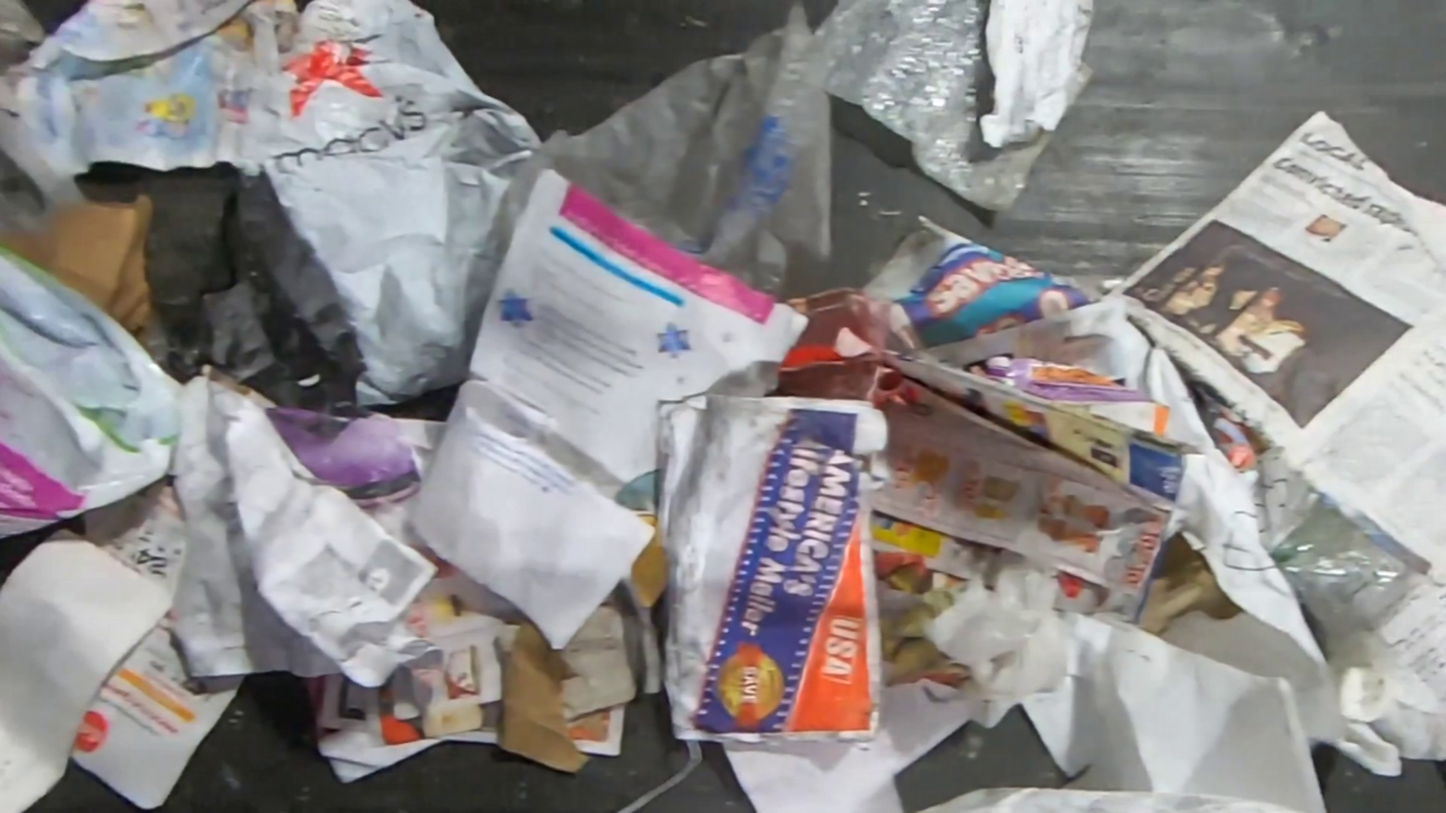cardboard: (68, 481, 253, 810), (883, 291, 1224, 454), (0, 190, 160, 337), (775, 282, 928, 412), (495, 613, 597, 776), (1136, 531, 1246, 639)
plastic: (207, 0, 541, 412), (494, 0, 839, 302), (77, 161, 360, 413), (0, 244, 187, 547), (815, 0, 1055, 216), (921, 525, 1075, 731), (1268, 496, 1419, 664), (0, 0, 90, 237), (611, 739, 703, 813), (1061, 59, 1097, 121)
